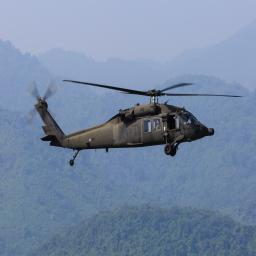helicopter: (26, 75, 243, 168)
